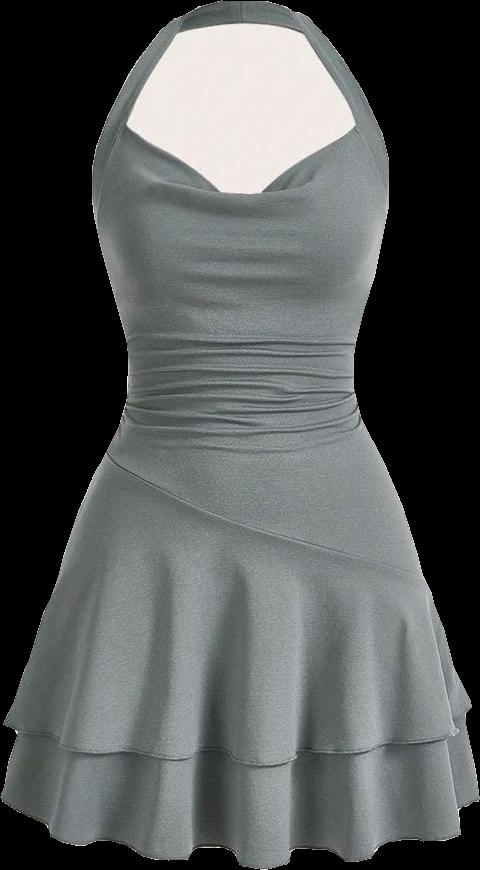Bodice: (91, 2, 424, 578)
Hemline: (3, 695, 479, 774), (0, 790, 479, 867)
Neckline: (107, 116, 379, 198)
Skirt: (1, 461, 479, 868)
Waistline: (101, 456, 433, 584)
